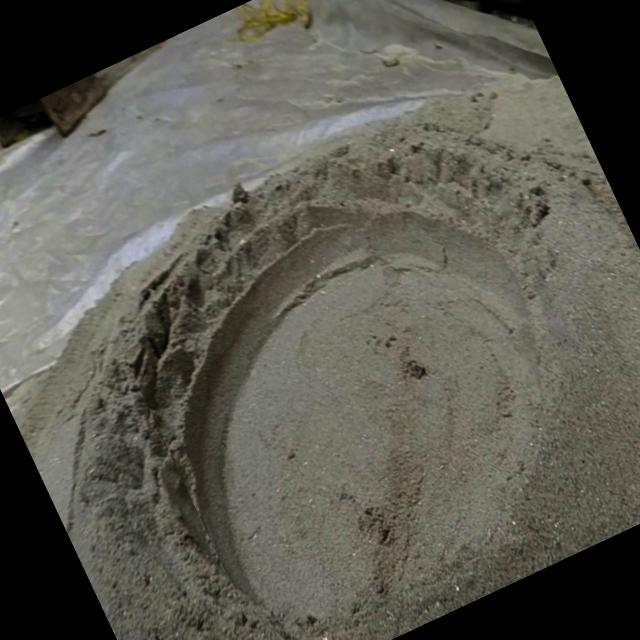C40: (182, 204, 552, 619)
